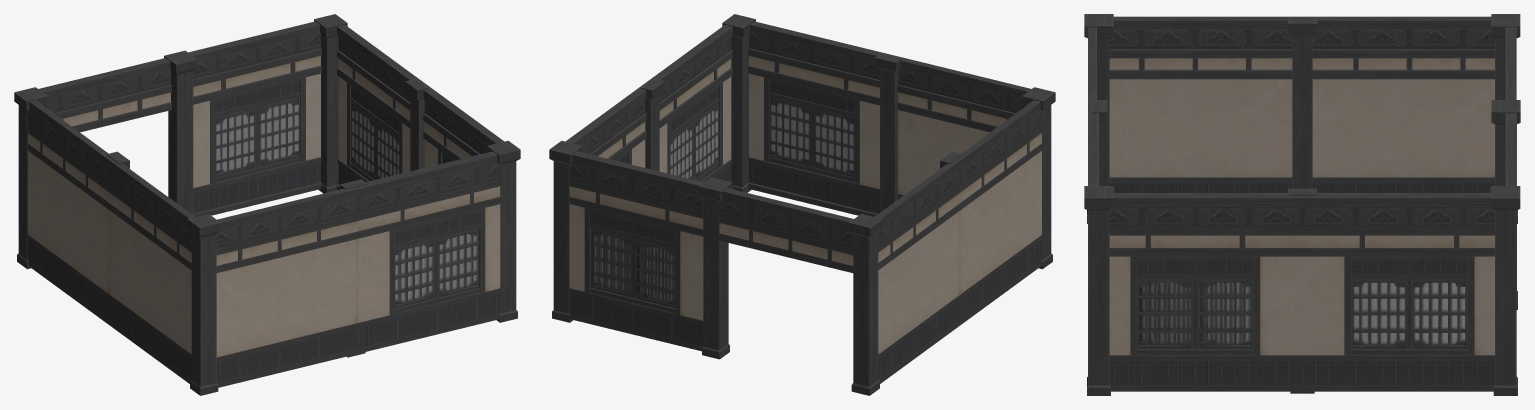
File: Homeworld_Interior_Dq_Room_L_Wall_01_Vo.fbx
3 renders of one model, left to right at view 1: azimuth 30°, elevation 25°; view 2: azimuth 150°, elevation 25°; view 3: azimuth 270°, elevation 25°, orthographic. The views are drawn at different scales.
Visible parts, largest first — view 1: Homeworld_Interior_Dq_Room_Wall_02_Vo (×4), Homeworld_Interior_Dq_Room_Wall_01_Vo (×3), Homeworld_Interior_Dq_Room_Pillar_01_Vo (×5), Homeworld_Interior_Dq_Room_Wall_04_Vo, Homeworld_Interior_Dq_Room_L_Filling_01_Vo, Homeworld_Interior_Dq_Room_Pillar_02_Vo; view 2: Homeworld_Interior_Dq_Room_Wall_02_Vo (×4), Homeworld_Interior_Dq_Room_Wall_01_Vo (×3), Homeworld_Interior_Dq_Room_Pillar_01_Vo (×5), Homeworld_Interior_Dq_Room_Wall_04_Vo, Homeworld_Interior_Dq_Room_Pillar_02_Vo (×2), Homeworld_Interior_Dq_Room_L_Filling_01_Vo; view 3: Homeworld_Interior_Dq_Room_Wall_02_Vo (×4), Homeworld_Interior_Dq_Room_Wall_01_Vo (×3), Homeworld_Interior_Dq_Room_Pillar_01_Vo (×5), Homeworld_Interior_Dq_Room_L_Filling_01_Vo, Homeworld_Interior_Dq_Room_Pillar_02_Vo (×2), Homeworld_Interior_Dq_Room_Wall_04_Vo.
Boxes of the visible parts, left/top/right/bottom form: Homeworld_Interior_Dq_Room_Wall_02_Vo (×4): left=188, top=21, right=504, bottom=353; Homeworld_Interior_Dq_Room_Wall_01_Vo (×3): left=28, top=100, right=358, bottom=387; Homeworld_Interior_Dq_Room_Pillar_01_Vo (×5): left=14, top=14, right=520, bottom=395; Homeworld_Interior_Dq_Room_Wall_04_Vo: left=38, top=58, right=171, bottom=132; Homeworld_Interior_Dq_Room_L_Filling_01_Vo: left=395, top=234, right=477, bottom=302; Homeworld_Interior_Dq_Room_Pillar_02_Vo: left=405, top=79, right=428, bottom=171; Homeworld_Interior_Dq_Room_Wall_02_Vo (×4): left=565, top=21, right=892, bottom=351; Homeworld_Interior_Dq_Room_Wall_01_Vo (×3): left=875, top=55, right=1041, bottom=383; Homeworld_Interior_Dq_Room_Pillar_01_Vo (×5): left=549, top=14, right=1055, bottom=395; Homeworld_Interior_Dq_Room_Wall_04_Vo: left=719, top=188, right=853, bottom=272; Homeworld_Interior_Dq_Room_Pillar_02_Vo (×2): left=641, top=53, right=902, bottom=212; Homeworld_Interior_Dq_Room_L_Filling_01_Vo: left=592, top=234, right=674, bottom=302; Homeworld_Interior_Dq_Room_Wall_02_Vo (×4): left=1088, top=107, right=1516, bottom=391; Homeworld_Interior_Dq_Room_Wall_01_Vo (×3): left=1088, top=16, right=1494, bottom=192; Homeworld_Interior_Dq_Room_Pillar_01_Vo (×5): left=1084, top=14, right=1520, bottom=395; Homeworld_Interior_Dq_Room_L_Filling_01_Vo: left=1139, top=283, right=1465, bottom=344; Homeworld_Interior_Dq_Room_Pillar_02_Vo (×2): left=1092, top=17, right=1316, bottom=188; Homeworld_Interior_Dq_Room_Wall_04_Vo: left=1505, top=27, right=1516, bottom=99.
Size of what is drawn, in the model's own units: 10.18 by 5.12 by 10.18.
